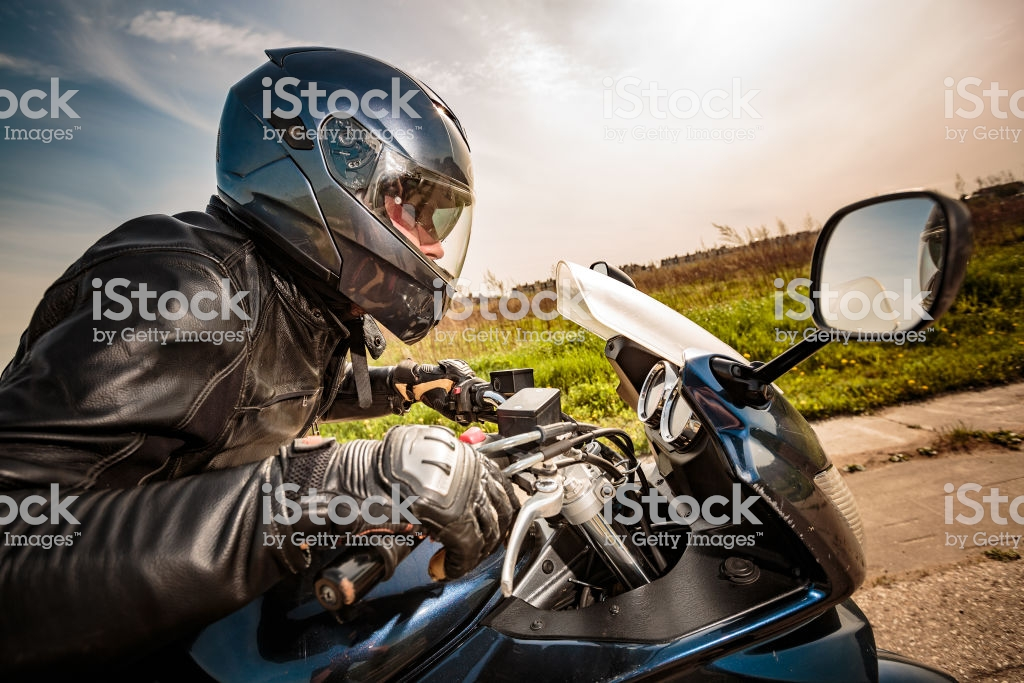helmet: (218, 39, 478, 331)
